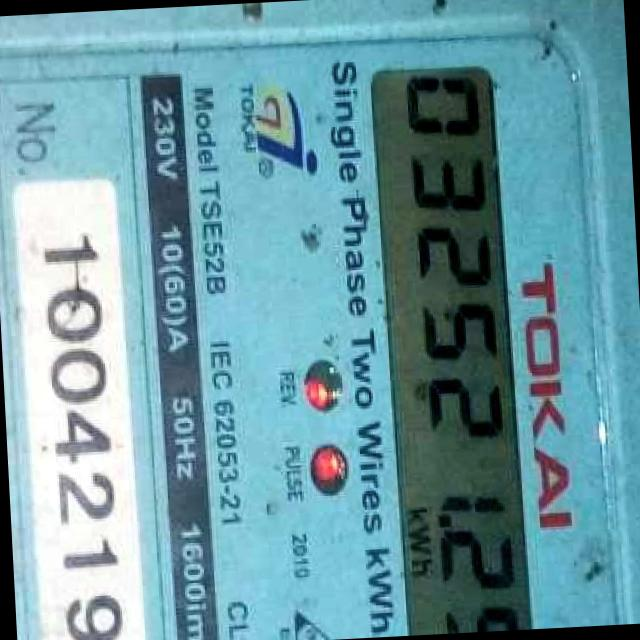LCD: (354, 52, 544, 638)
